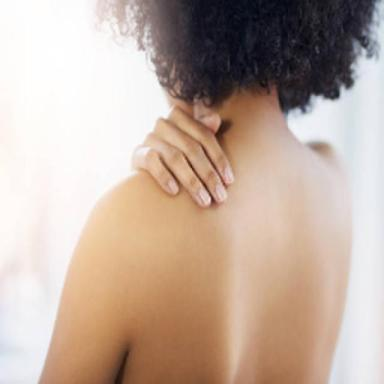normal skin: (40, 89, 350, 384)
